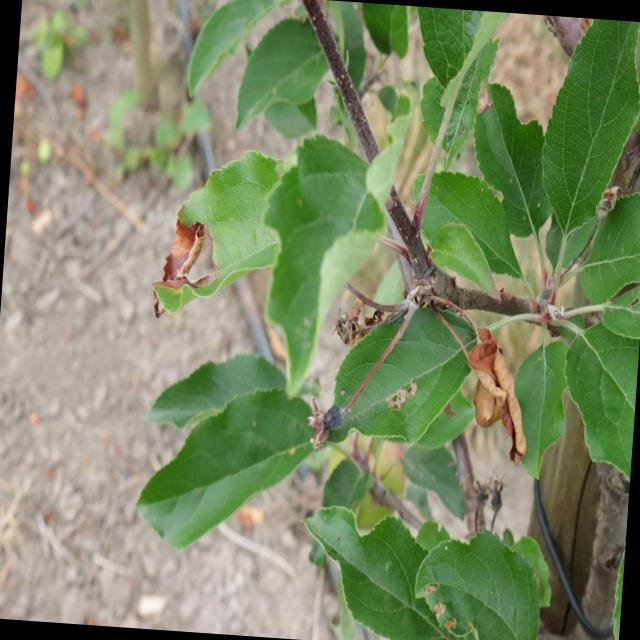-FireBlight-: (444, 320, 544, 458), (158, 209, 246, 313)
